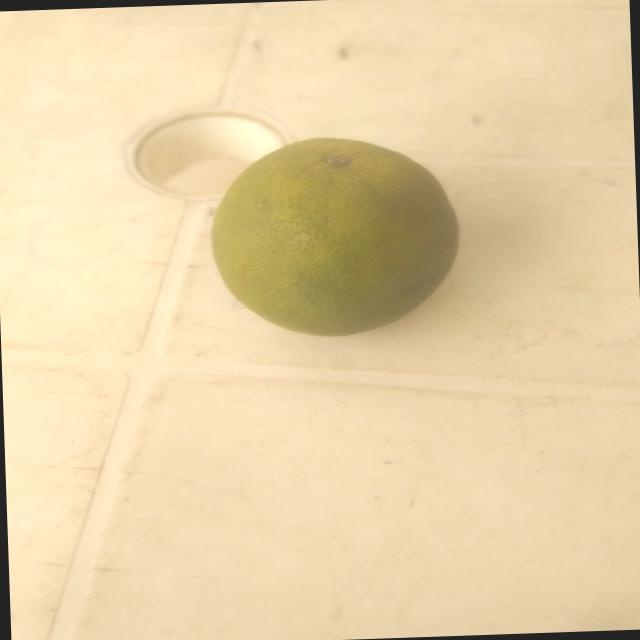agrume: (186, 126, 470, 344)
